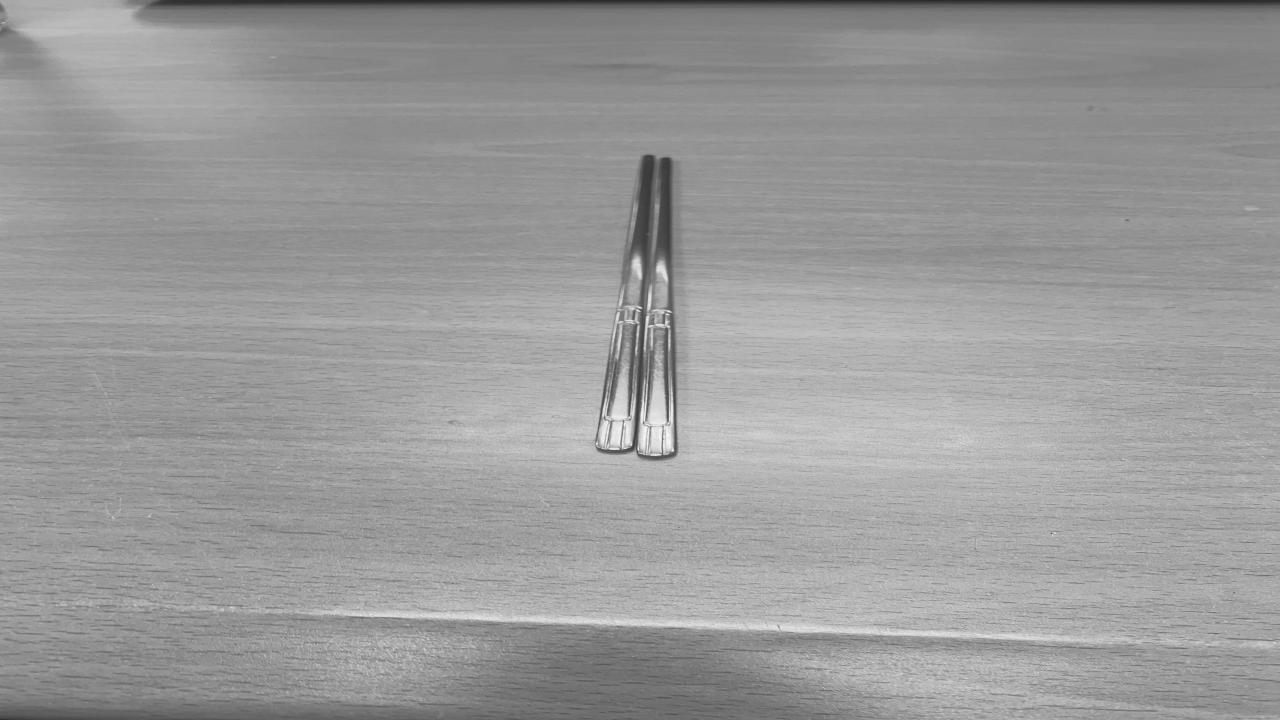chopstick: (597, 156, 677, 456)
